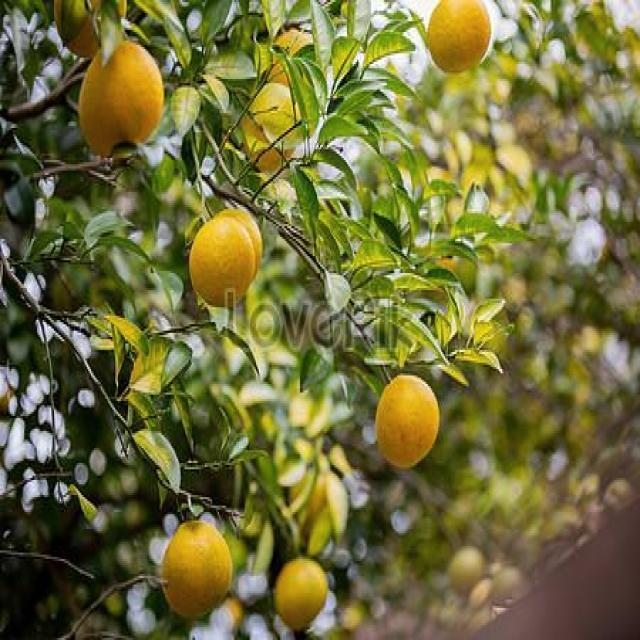Jeruk Sudah Matang: (80, 38, 160, 160), (162, 514, 232, 621), (188, 218, 256, 308), (374, 373, 440, 465), (240, 84, 306, 172), (262, 29, 331, 102), (428, 2, 491, 75), (208, 209, 264, 284), (278, 556, 328, 634)
